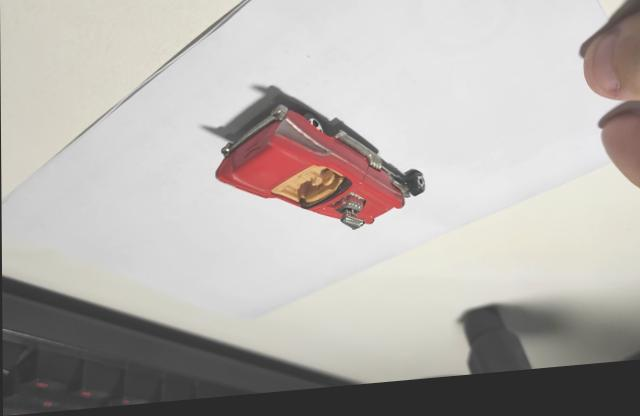03_V8: (202, 90, 426, 235)
